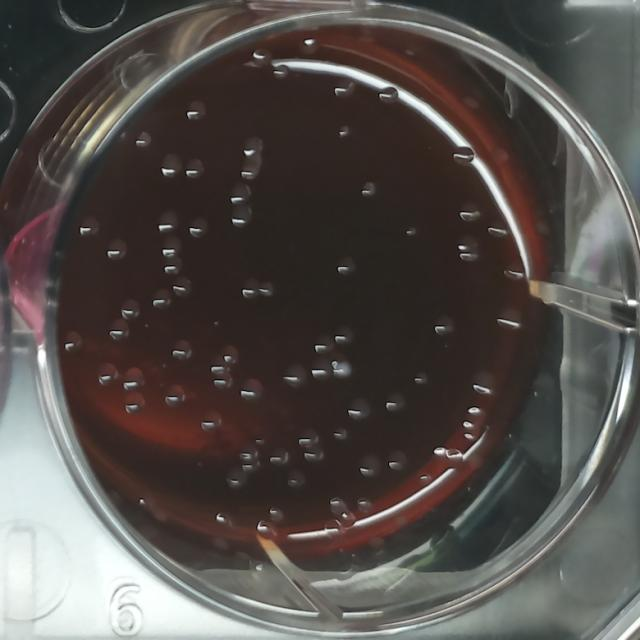Staphylococcus: (331, 356, 356, 384)
